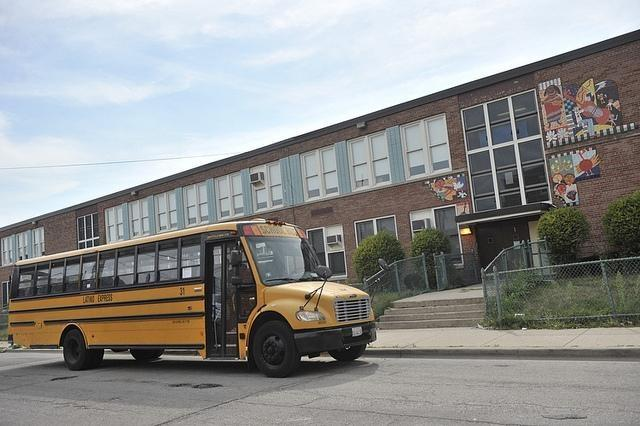bus: (6, 218, 374, 382)
